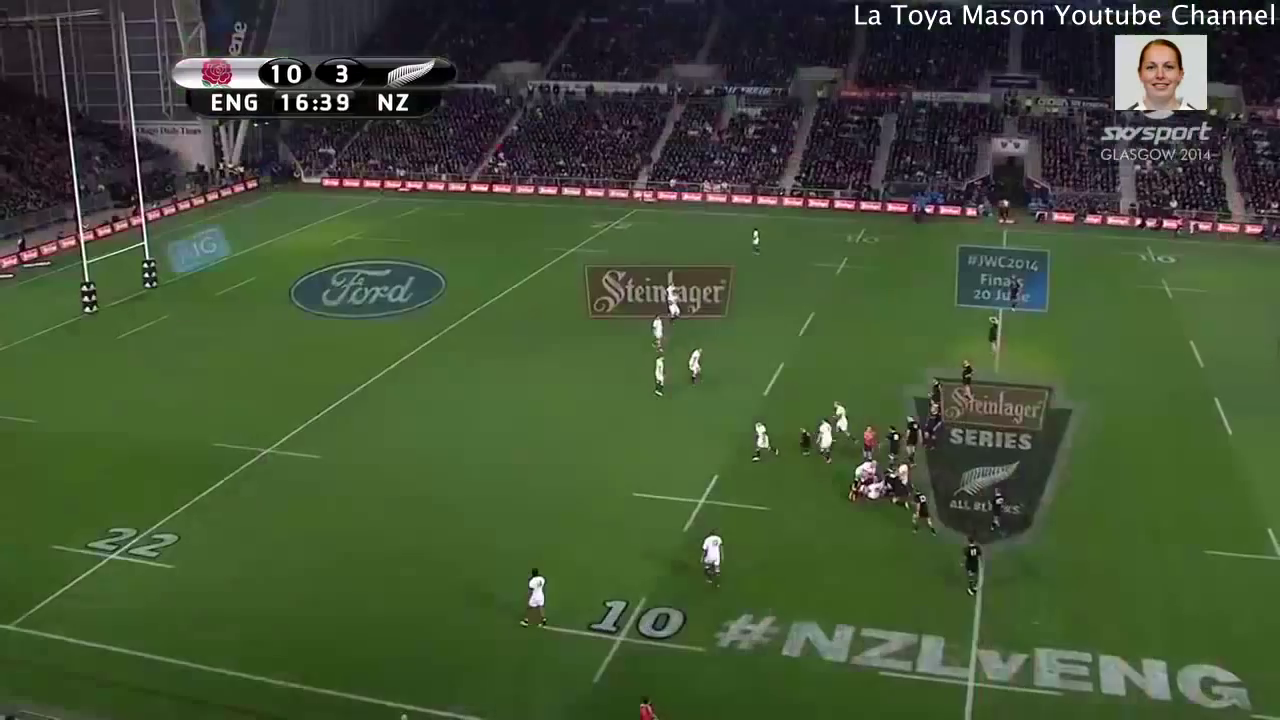10_metre: (534, 590, 709, 687), (629, 469, 773, 540), (1197, 522, 1280, 574), (1129, 274, 1210, 302), (808, 255, 879, 279), (1117, 242, 1186, 266), (829, 223, 899, 246)
player: (517, 564, 551, 631), (694, 528, 727, 594), (957, 532, 986, 600), (909, 488, 940, 539), (749, 418, 782, 463), (831, 399, 861, 446), (846, 458, 878, 502), (883, 472, 914, 510), (920, 404, 944, 453), (814, 416, 836, 466), (901, 414, 920, 471), (985, 485, 1006, 533), (859, 423, 881, 462), (686, 344, 706, 386), (648, 313, 668, 354), (650, 354, 668, 399), (958, 359, 976, 402), (884, 423, 902, 465), (1004, 276, 1022, 314), (985, 312, 1002, 351), (666, 289, 683, 327), (797, 425, 814, 460), (749, 225, 765, 259), (929, 375, 945, 404), (893, 459, 910, 485), (664, 280, 676, 294)
post: (67, 126, 163, 315)
ruck: (847, 458, 920, 508)
